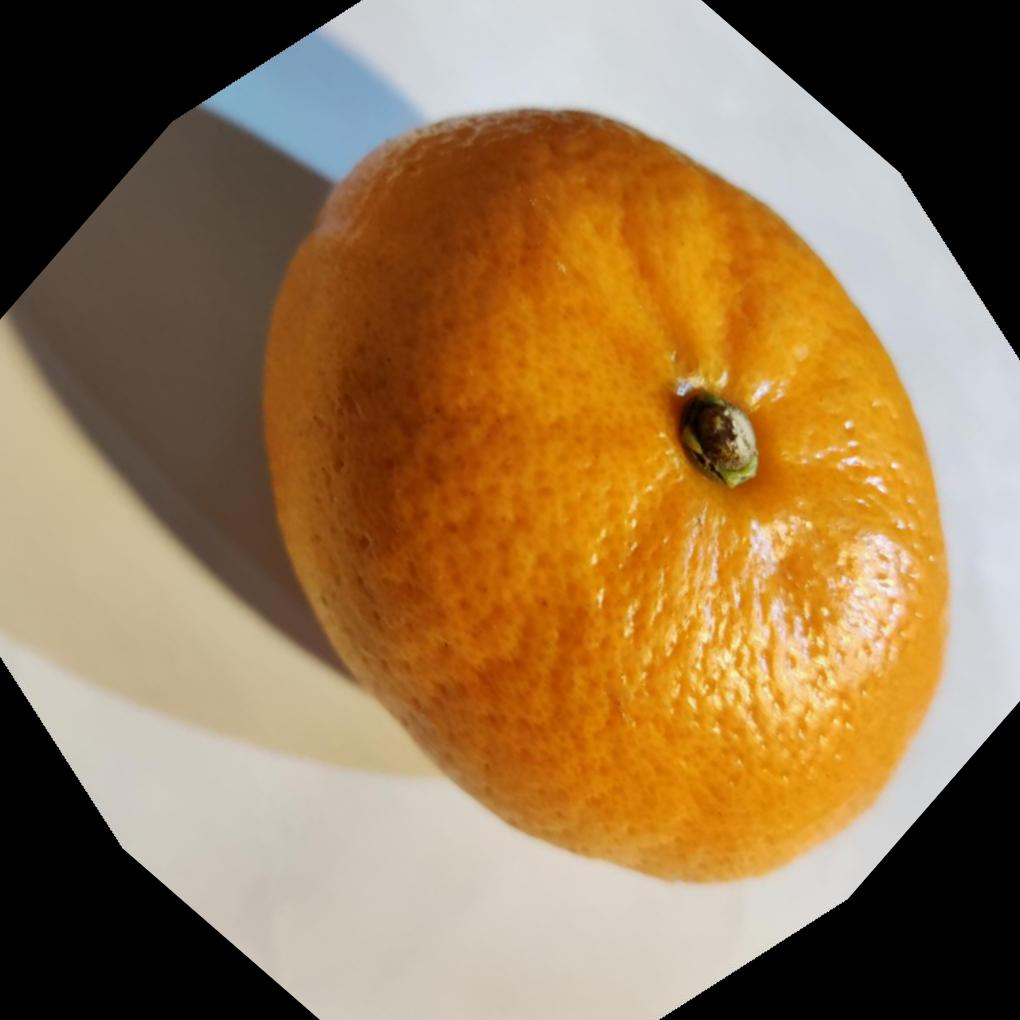FreshGuava: (254, 106, 952, 889)
